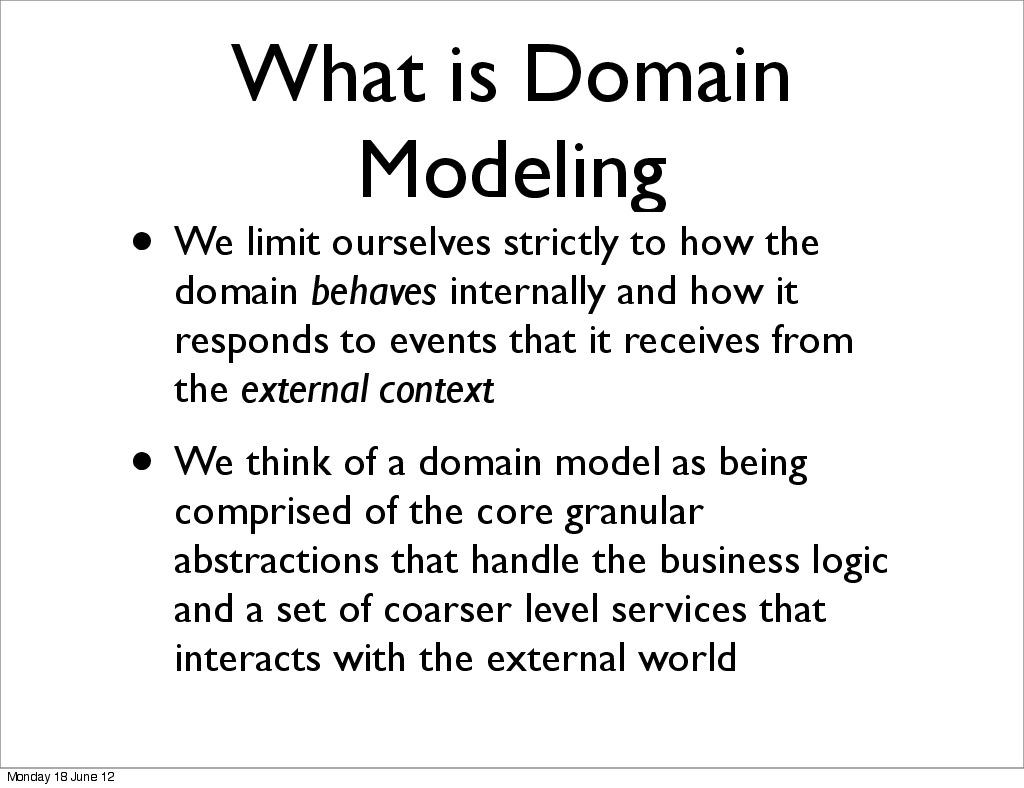paragraph: (101, 209, 965, 702)
title: (208, 26, 830, 208)
